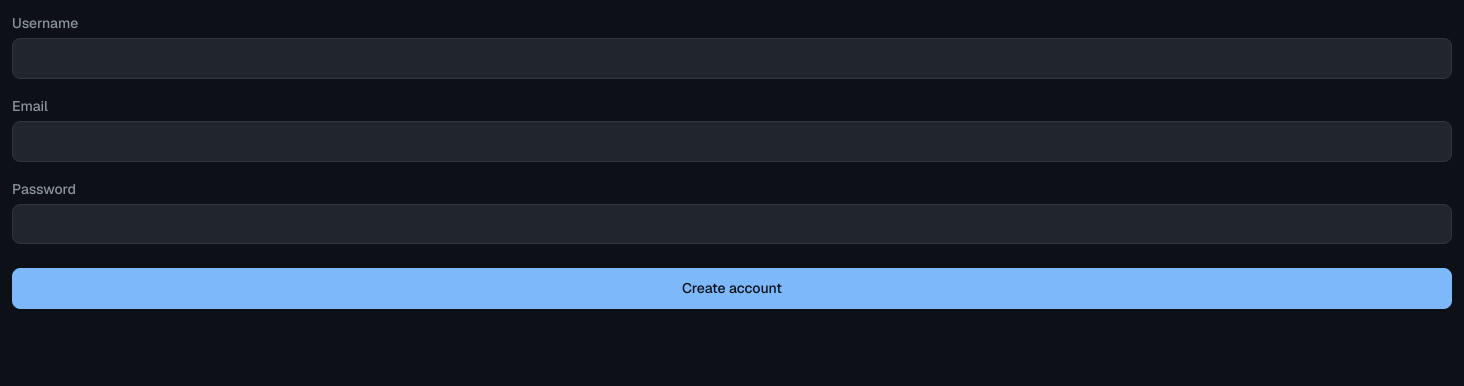
RegisterForm › shows an error banner when registration fails
This screenshot has width=1464, height=386.
Type "alissa" into the field labelled "Username" at (732, 59), box [12,38,1452,79]
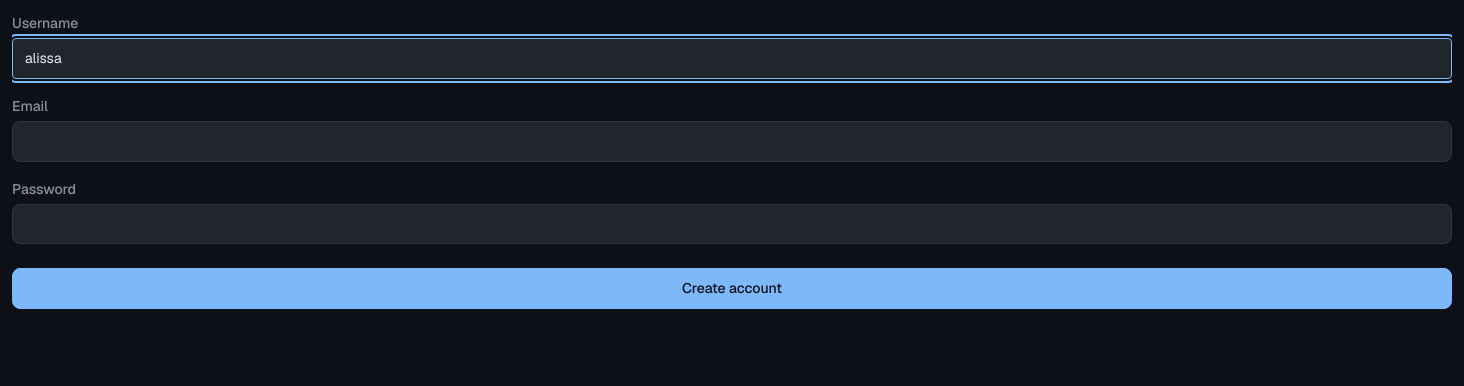
Type "alissa@example.com" into the field labelled "Email" at (732, 141), box [12,121,1452,162]
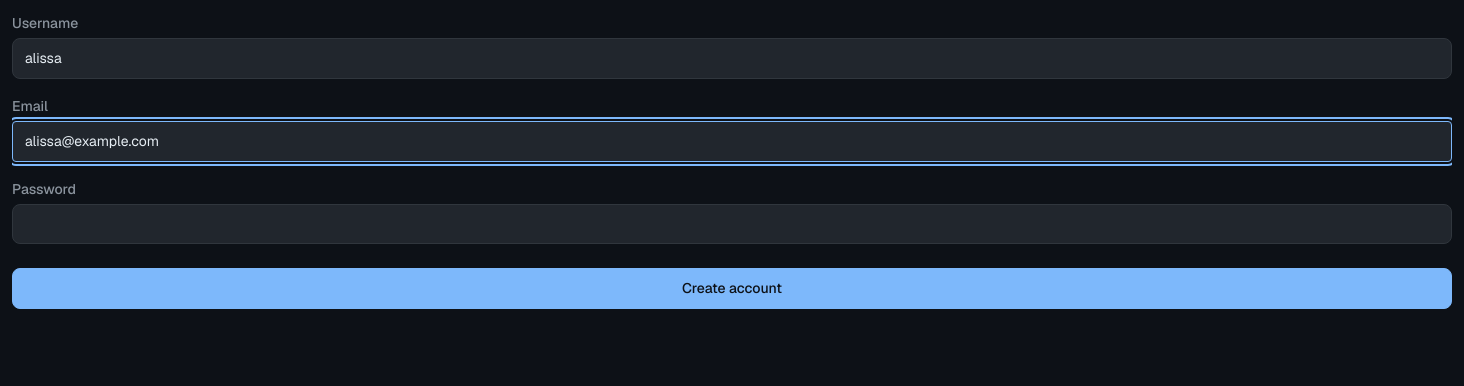
Type "password123" into the password field labelled "Password" at (732, 224), box [12,204,1452,244]
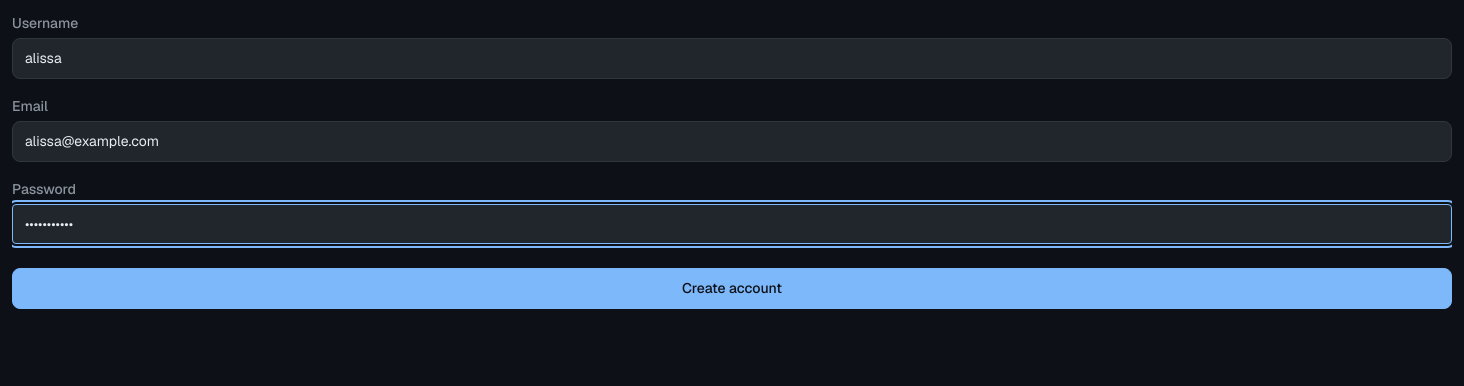
Click the button "Create account" at (732, 288), box [12,268,1452,309]
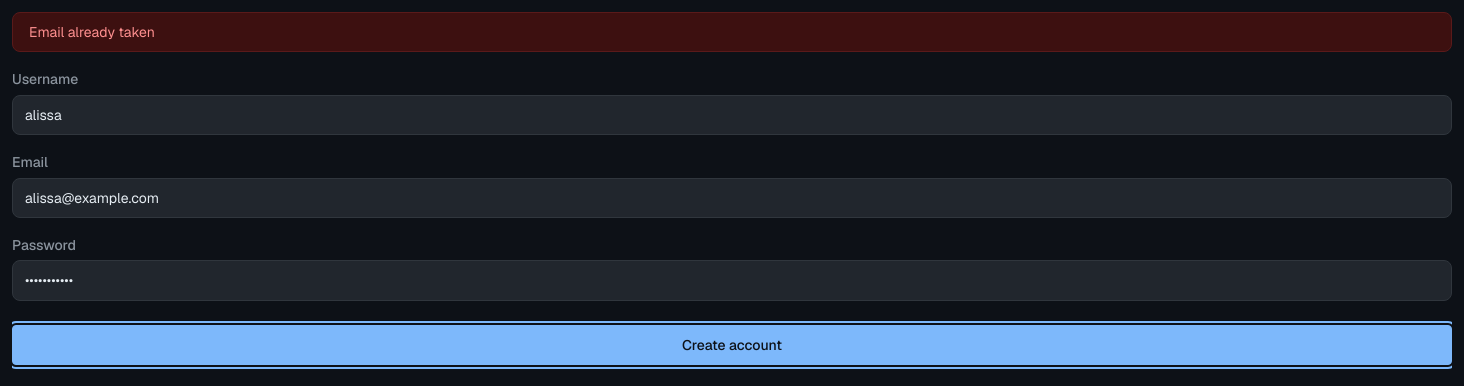
Expected: the text "Email already taken" is shown, [12,12,1452,52]
